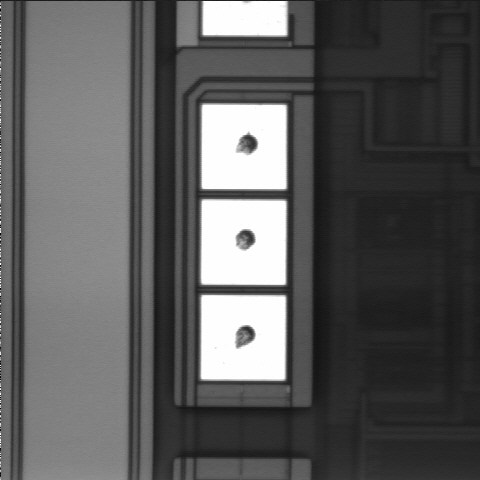pad: (201, 200, 286, 285), (201, 295, 286, 380), (202, 105, 286, 189)
